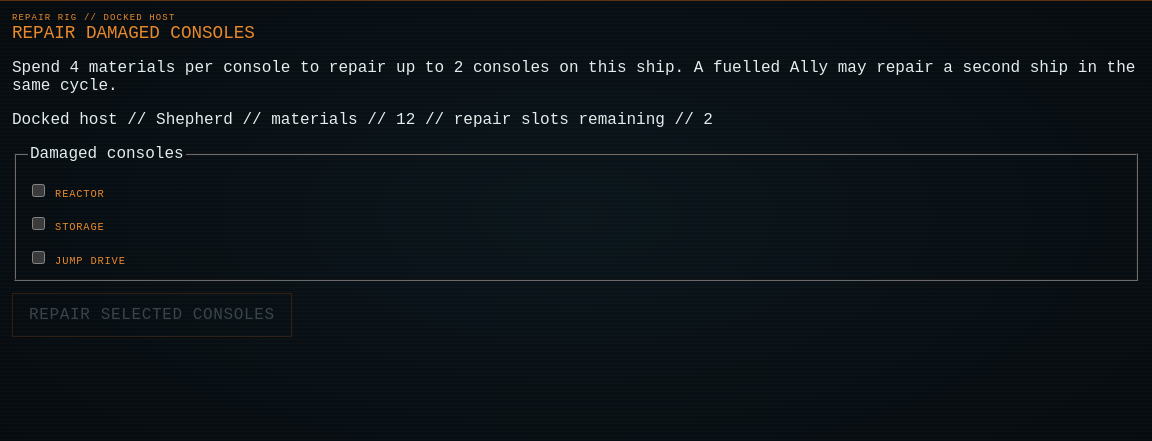
it: drops stale recovery when holder authority is lost
This screenshot has width=1152, height=441.
Click the checkbox labelled "Reactor" at (38, 190), box [32,184,45,197]
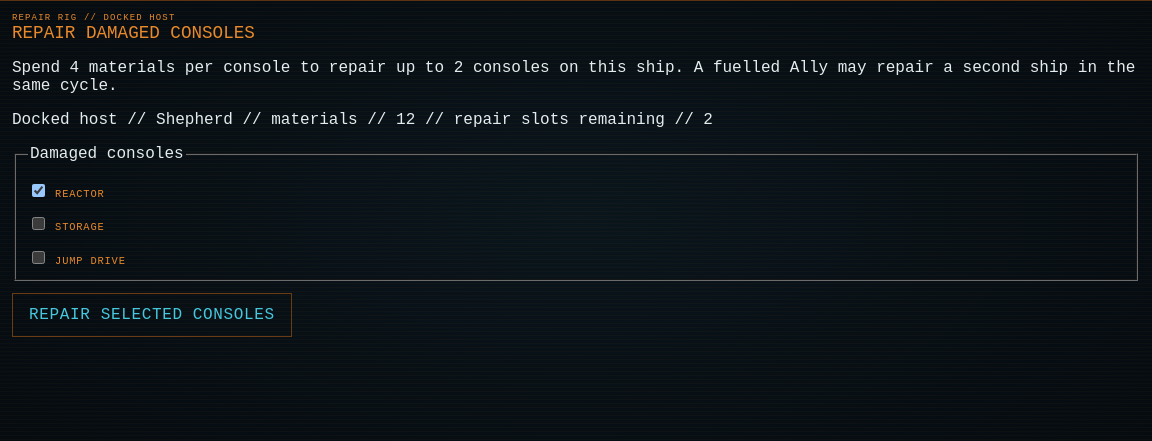
Click the button "Repair selected consoles" at (152, 315), box [12,293,292,337]
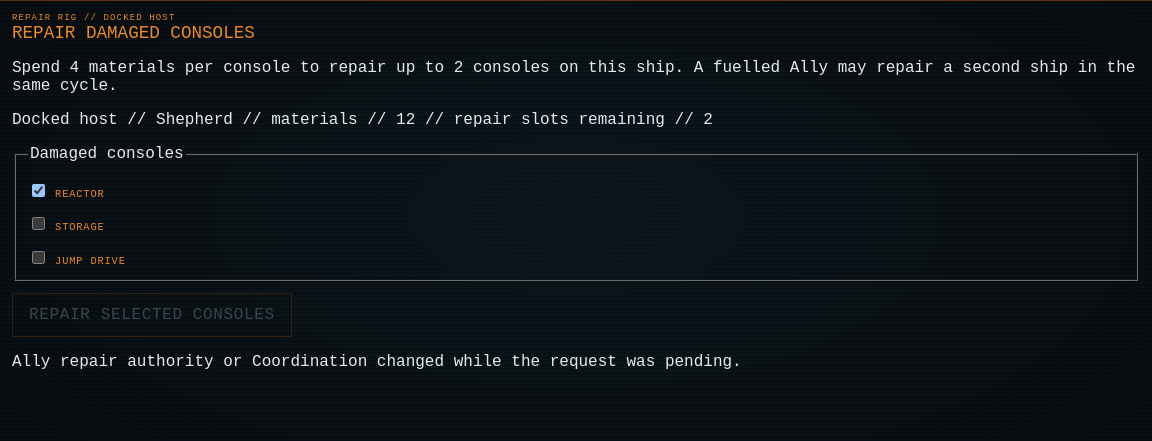
Expected: the message shows "authority or Coordination changed", [12,353,742,371]
